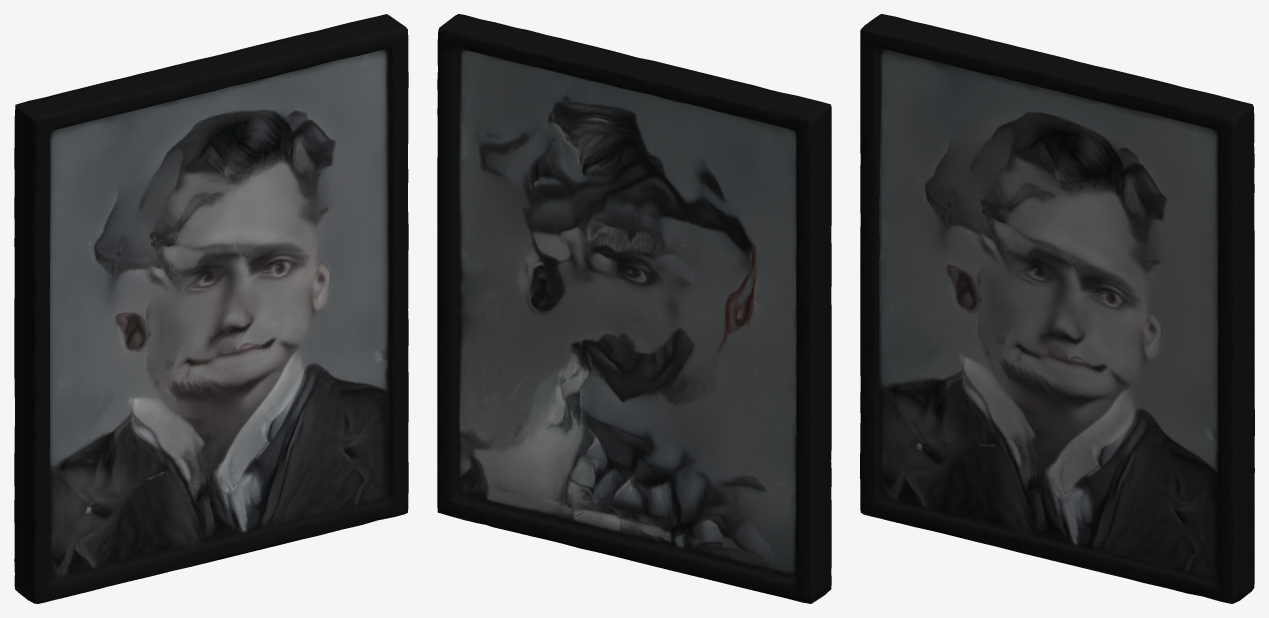
The model's file is crypt_portrait2.glb.
3 renders of one model, left to right at view 1: azimuth 30°, elevation 25°; view 2: azimuth 150°, elevation 25°; view 3: azimuth 330°, elevation 25°, orthographic.
Visible parts, largest first — view 1: world; view 2: world; view 3: world.
Part boxes in pixels (left/top/right/bottom): world: left=14, top=14, right=408, bottom=603; world: left=437, top=14, right=831, bottom=603; world: left=860, top=14, right=1254, bottom=603.
Bounding box in the file's own units: 0.803 × 0.9981 × 0.0807.
Materials: 1 (1 with a texture image).
